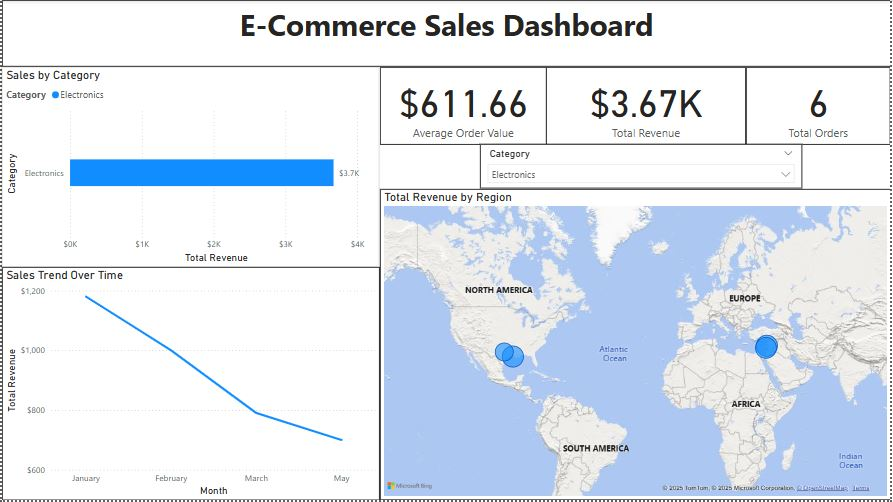

The dashboard page shown, as its layout file describes it:
{"tool":"powerbi","page":{"name":"Page 1","canvas":[1280,720],"ordinal":0},"visuals":[{"type":"card","fields":{"Values":["Ecommerce_Dataset.Total Revenue"]},"box":[784,96,288,112],"z":0},{"type":"card","fields":{"Values":["Ecommerce_Dataset.Average Order Value"]},"box":[544,96,240,112],"z":1000},{"type":"card","fields":{"Values":["Ecommerce_Dataset.Total Orders"]},"box":[1072,96,208,112],"z":2000},{"type":"clusteredBarChart","title":"Sales by Category","fields":{"Y":["Ecommerce_Dataset.Total Revenue"],"Category":["Ecommerce_Dataset.Category"],"Series":["Ecommerce_Dataset.Category"]},"box":[0,96,544,288],"z":3000},{"type":"lineChart","title":"Sales Trend Over Time","fields":{"Y":["Ecommerce_Dataset.Total Revenue"],"Category":["Date Table.Month"]},"box":[0,384,544,336],"z":4000},{"type":"map","fields":{"Category":["Ecommerce_Dataset.Region"],"Size":["Ecommerce_Dataset.Total Revenue"]},"box":[544,272,736,448],"z":5000},{"type":"slicer","fields":{"Values":["Ecommerce_Dataset.Category"]},"box":[688,208,464,64],"z":5001},{"type":"textbox","box":[0,0,1280,96],"z":5002}]}

Visuals, with their boxes in screenshot pixels (x1, y1, x2, y2), scaled from the page's 1280x720 canvas onto the 893x502 screenshot:
card - Ecommerce_Dataset.Total Revenue: [547, 67, 748, 145]
card - Ecommerce_Dataset.Average Order Value: [380, 67, 547, 145]
card - Ecommerce_Dataset.Total Orders: [748, 67, 892, 145]
"Sales by Category" clusteredBarChart: [0, 67, 380, 268]
"Sales Trend Over Time" lineChart: [0, 268, 380, 501]
map - Ecommerce_Dataset.Region x Ecommerce_Dataset.Total Revenue: [380, 190, 892, 501]
slicer - Ecommerce_Dataset.Category: [480, 145, 804, 190]
textbox: [0, 0, 892, 67]
